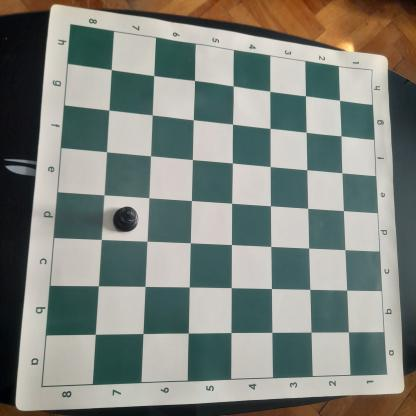black-bishop: (112, 205, 140, 233)
